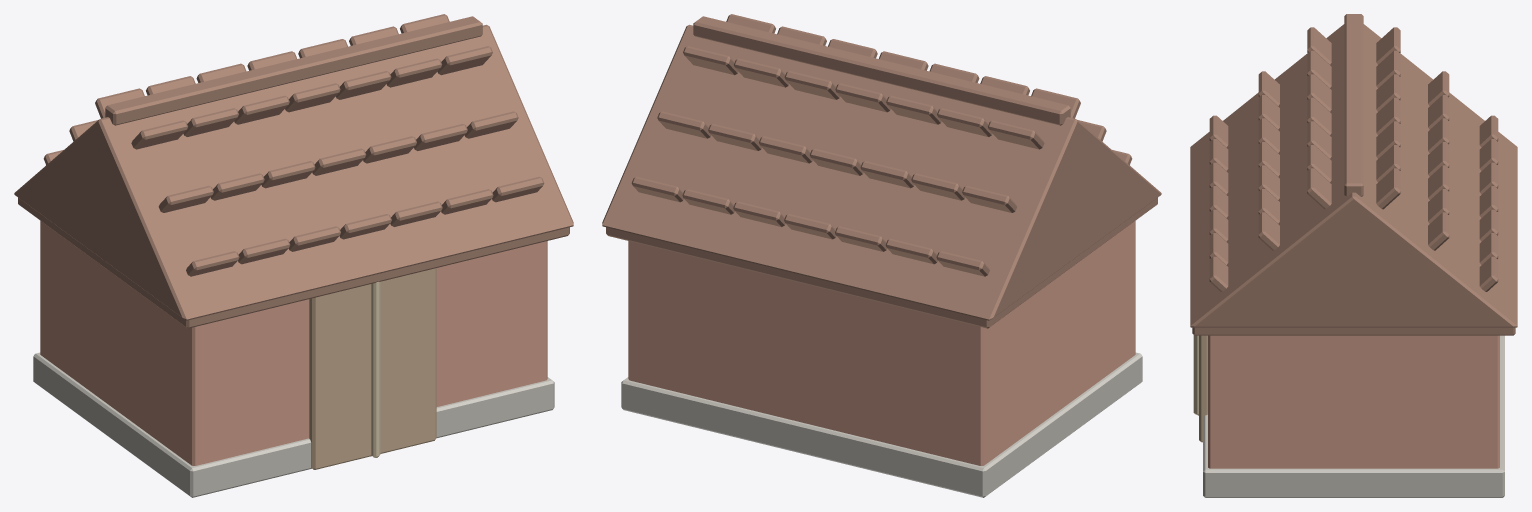
The model's file is barn_a.glb.
The picture shows the model from 3 angles, left to right: view 1: azimuth 30°, elevation 25°; view 2: azimuth 150°, elevation 25°; view 3: azimuth 270°, elevation 25°; orthographic projection. The views are drawn at different scales.
Parts seen in each view (by area): view 1: roof, wall, door, skirt, ridge, eave, beam, shingle.014, shingle.016, shingle.017, shingle.020, shingle.015 (+16 smaller); view 2: roof, wall, skirt, ridge, eave, shingle.035, shingle.037, shingle.038, shingle.041, shingle.036, shingle.039, shingle.040 (+14 smaller); view 3: roof, wall, skirt, ridge, eave, door, shingle.020, shingle.041, shingle.013, shingle.034, shingle.015, shingle.036 (+37 smaller).
Boxes of the visible parts, bbox=[...] form: roof: bbox=[14, 24, 573, 320]; wall: bbox=[40, 221, 547, 465]; door: bbox=[309, 268, 436, 469]; skirt: bbox=[33, 352, 554, 497]; ridge: bbox=[105, 16, 482, 125]; eave: bbox=[18, 197, 569, 328]; beam: bbox=[371, 281, 380, 457]; shingle.014: bbox=[131, 120, 187, 149]; shingle.016: bbox=[234, 95, 289, 124]; shingle.017: bbox=[285, 83, 340, 112]; shingle.020: bbox=[437, 46, 492, 75]; shingle.015: bbox=[183, 108, 238, 136]; roof: bbox=[602, 24, 1161, 320]; wall: bbox=[628, 221, 1135, 465]; skirt: bbox=[621, 352, 1142, 497]; ridge: bbox=[693, 16, 1070, 125]; eave: bbox=[606, 197, 1157, 328]; shingle.035: bbox=[988, 120, 1044, 149]; shingle.037: bbox=[886, 95, 941, 124]; shingle.038: bbox=[835, 83, 890, 112]; shingle.041: bbox=[683, 46, 738, 75]; shingle.036: bbox=[937, 108, 992, 136]; shingle.039: bbox=[784, 71, 839, 99]; shingle.040: bbox=[734, 58, 789, 87]; roof: bbox=[1190, 24, 1517, 327]; wall: bbox=[1208, 335, 1499, 468]; skirt: bbox=[1203, 335, 1504, 497]; ridge: bbox=[1344, 14, 1363, 196]; eave: bbox=[1192, 327, 1515, 335]; door: bbox=[1199, 335, 1207, 442]; shingle.020: bbox=[1307, 168, 1331, 209]; shingle.041: bbox=[1376, 168, 1400, 209]; shingle.013: bbox=[1258, 212, 1279, 250]; shingle.034: bbox=[1428, 212, 1449, 250]; shingle.015: bbox=[1307, 50, 1331, 88]; shingle.036: bbox=[1376, 50, 1400, 88].
Size of the model in its own units: 2.2 by 1.79 by 1.68.
